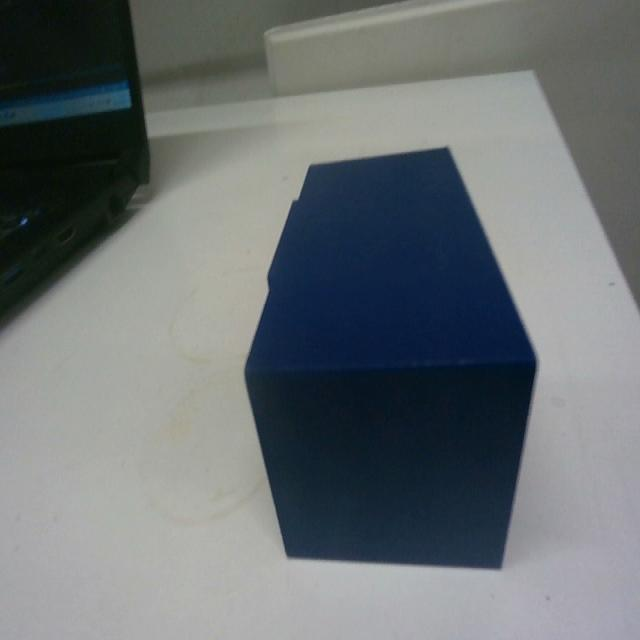Blue Cuboid: (242, 142, 540, 570)
